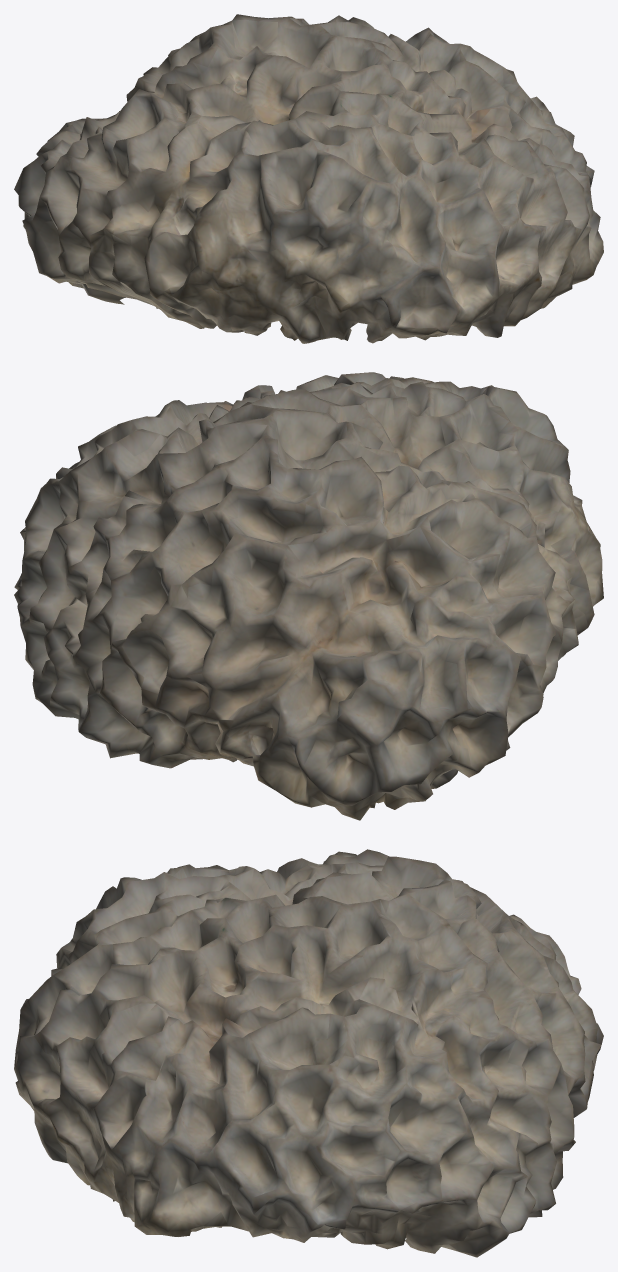
File: BrainCoral.fbx
3 views of the same model, one above another, from view 1: azimuth 30°, elevation 25°; view 2: azimuth 150°, elevation 25°; view 3: azimuth 270°, elevation 25° (orthographic). The views are drawn at different scales.
Visible parts, largest first — view 1: brain-coral-76.83; view 2: brain-coral-76.83; view 3: brain-coral-76.83.
Boxes of the visible parts, bbox=[...] form: brain-coral-76.83: bbox=[14, 14, 603, 343]; brain-coral-76.83: bbox=[14, 372, 603, 820]; brain-coral-76.83: bbox=[14, 849, 603, 1257].
Size of the model in its own units: 75.29 by 39.93 by 72.48.
